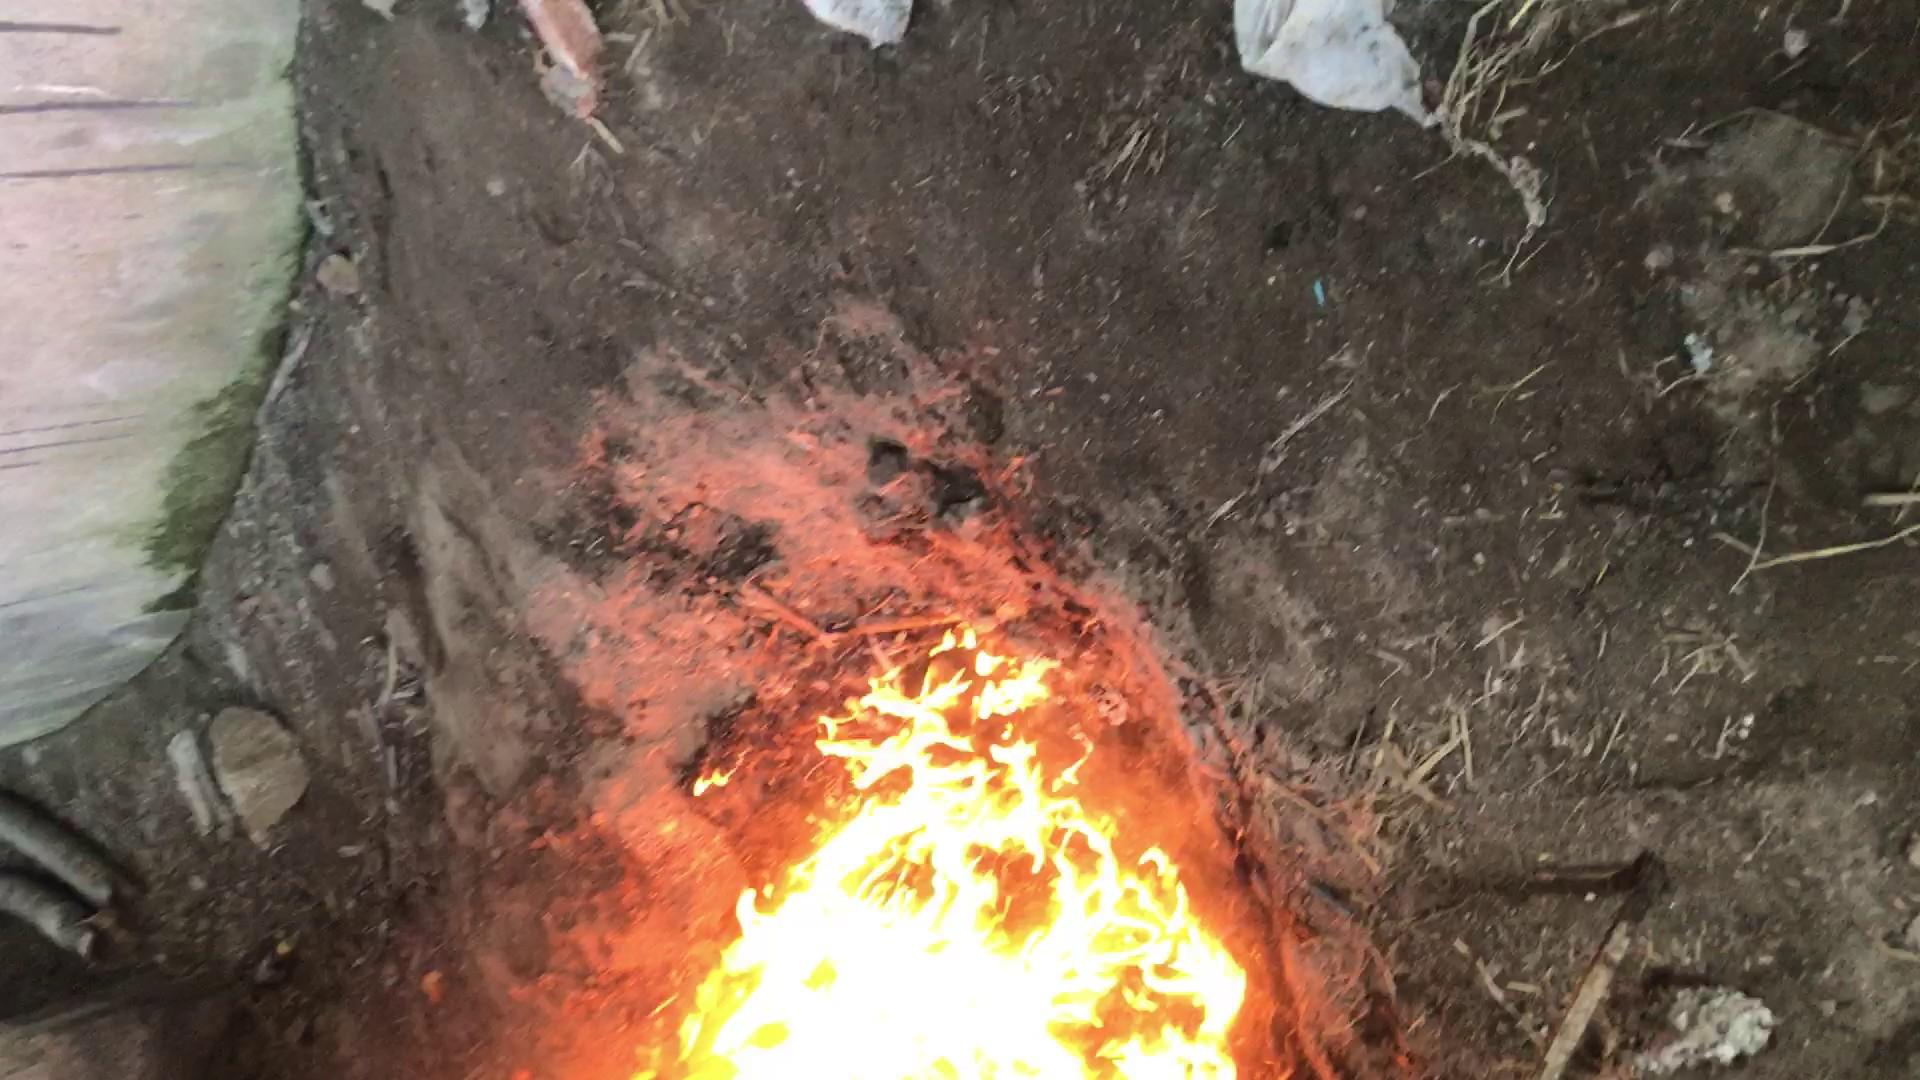fire: (12, 369, 616, 692)
